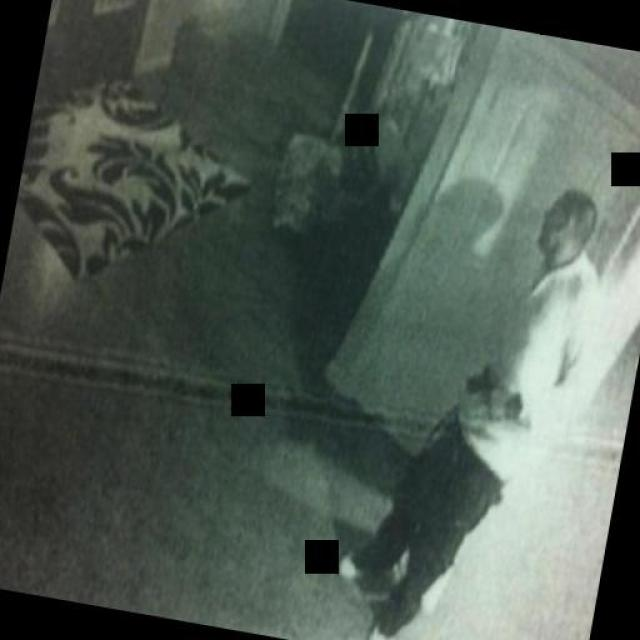gun: (460, 354, 504, 410)
